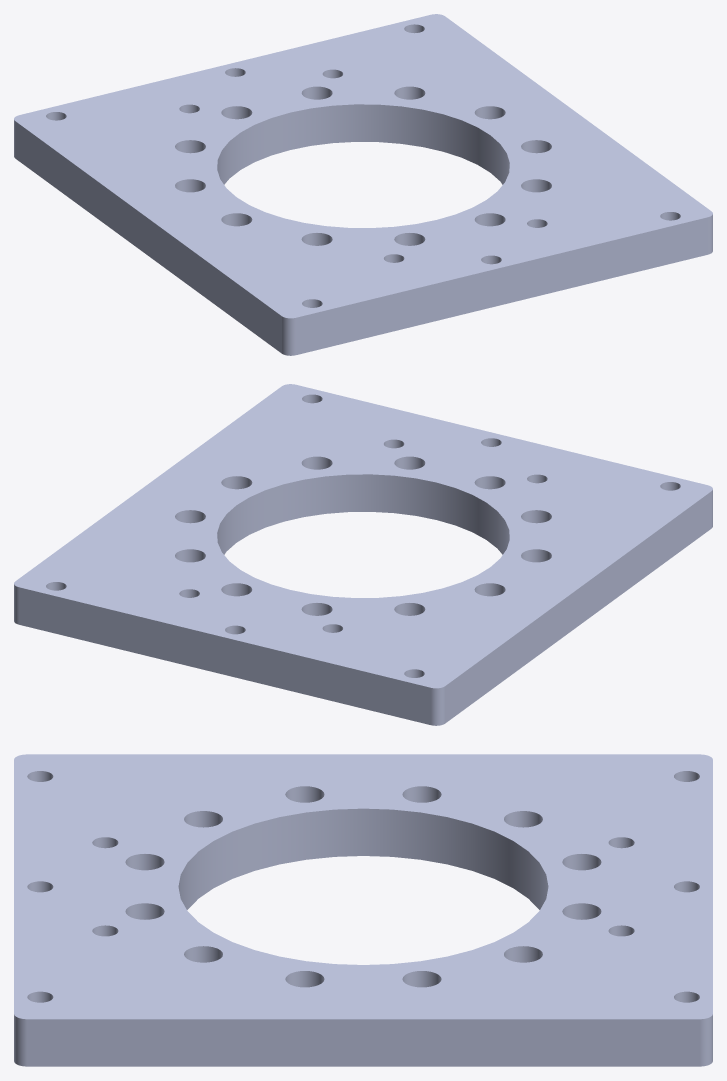
Rendered from Bottom.dae.
3 renders of one model, top to bottom at view 1: azimuth 30°, elevation 25°; view 2: azimuth 150°, elevation 25°; view 3: azimuth 270°, elevation 25°, orthographic. The views are drawn at different scales.
Parts seen in each view (by area): view 1: Actor0; view 2: Actor0; view 3: Actor0.
Boxes of the visible parts, x1,y1,x2,y2 form: Actor0: [14, 14, 712, 355]; Actor0: [14, 384, 712, 725]; Actor0: [14, 754, 712, 1066].
Bounding box in the file's own units: 0.1524 × 0.0127 × 0.17.
